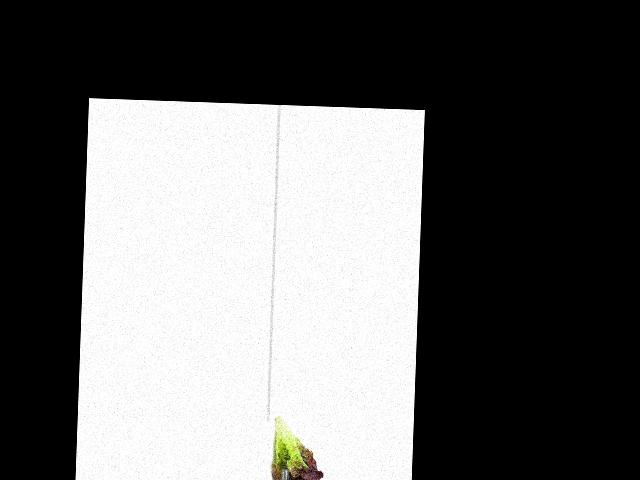lettuce: (266, 412, 326, 480)
